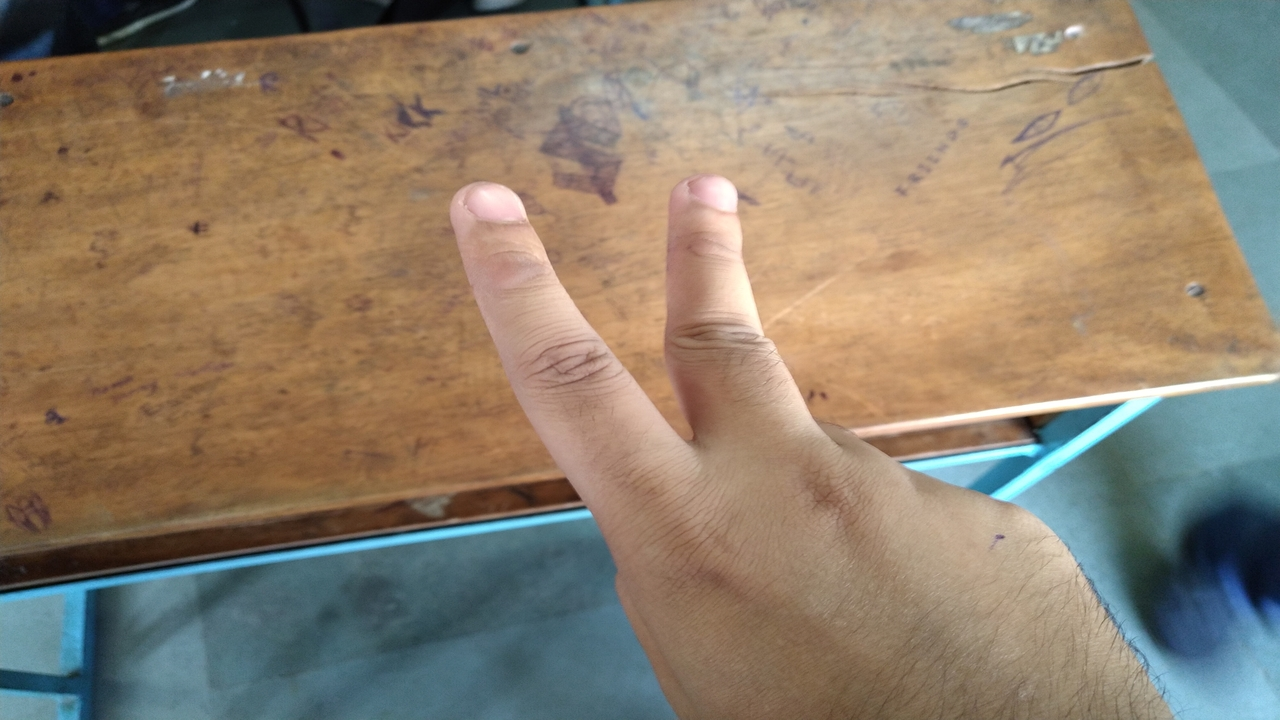fingertip: (438, 172, 528, 244), (664, 164, 748, 232)
